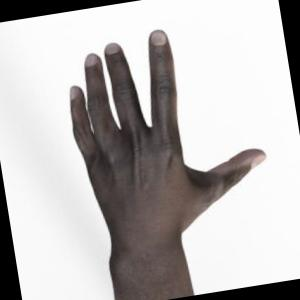paper: (70, 29, 265, 300)
